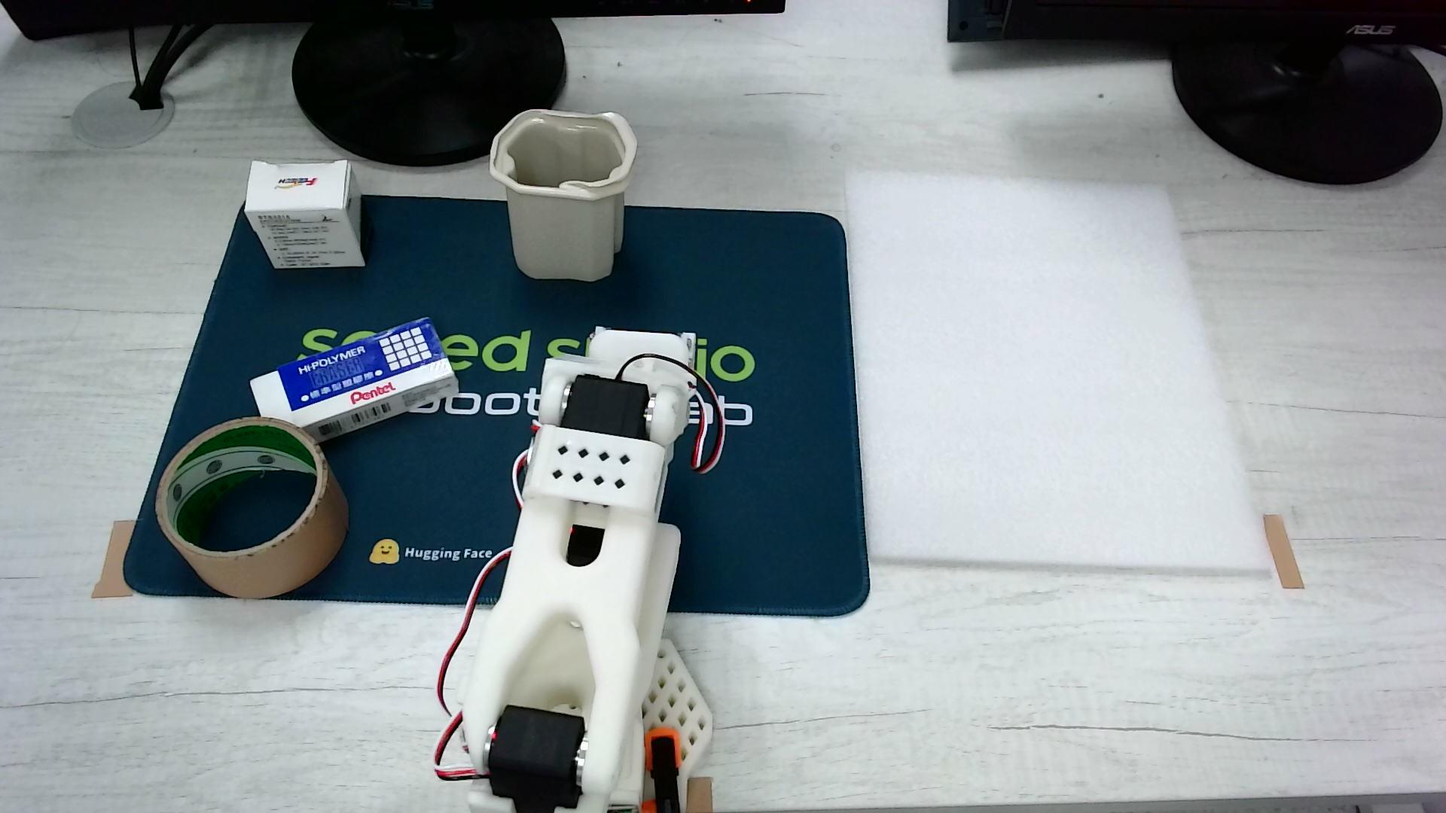eraser: (244, 161, 367, 267)
